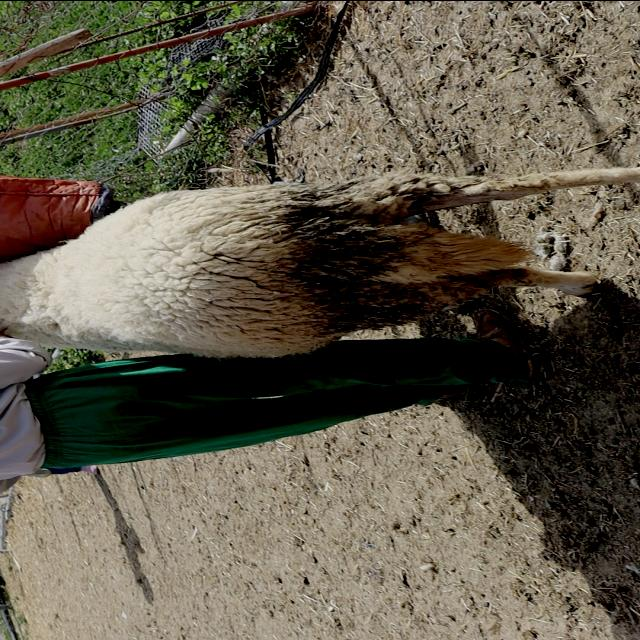Score_5: (0, 166, 639, 357)
